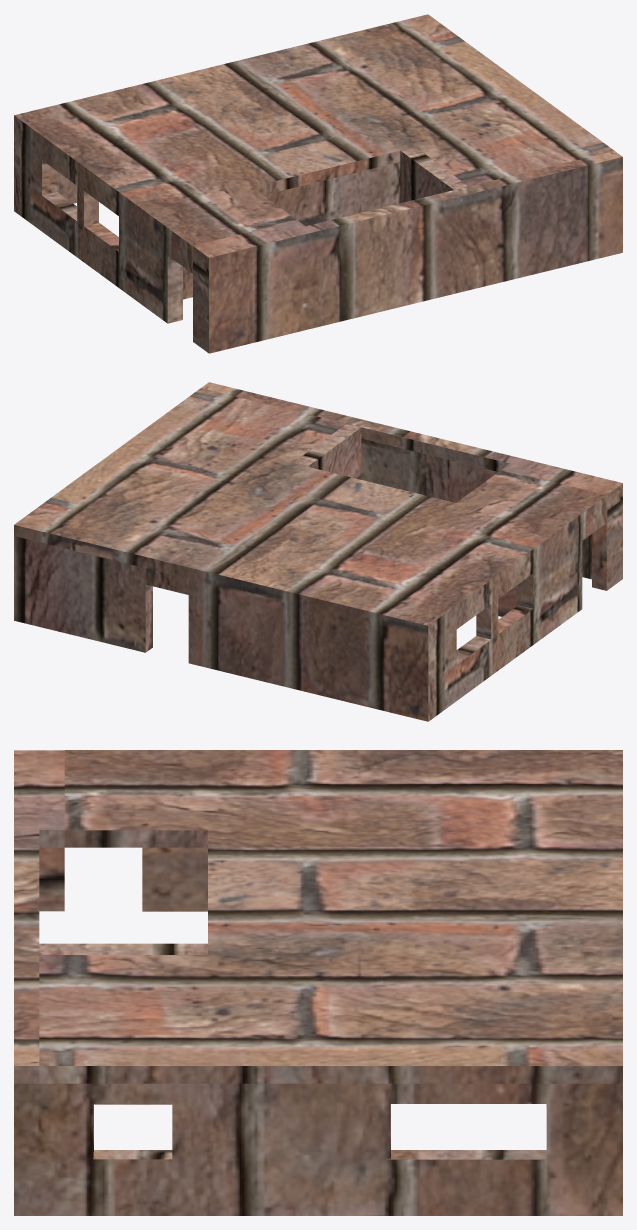
Rendered from brick_house.fbx.
The picture shows the model from 3 angles, top to bottom: view 1: azimuth 30°, elevation 25°; view 2: azimuth 150°, elevation 25°; view 3: azimuth 270°, elevation 25°; orthographic projection. The views are drawn at different scales.
Visible parts, largest first — view 1: pCube1; view 2: pCube1; view 3: pCube1.
Part boxes in pixels (left/top/right/bottom): pCube1: left=14, top=14, right=622, bottom=353; pCube1: left=14, top=382, right=622, bottom=721; pCube1: left=14, top=750, right=622, bottom=1215.
Size of the model in its own units: 29.37 by 6.5 by 23.93.
